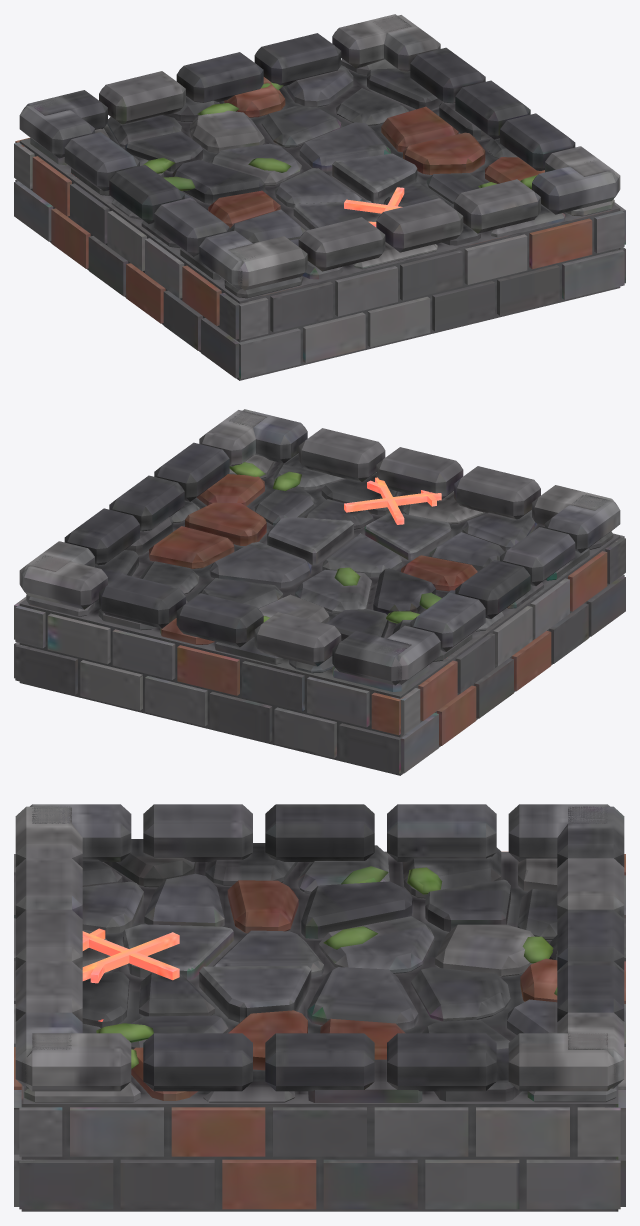
Rendered from plate_2_war.glb.
3 views of the same model, one above another, from view 1: azimuth 30°, elevation 25°; view 2: azimuth 150°, elevation 25°; view 3: azimuth 270°, elevation 25° (orthographic). The views are drawn at different scales.
Parts seen in each view (by area): view 1: plate_2_war; view 2: plate_2_war; view 3: plate_2_war.
Part boxes in pixels (x1=…): plate_2_war: x1=14, y1=14, x2=625, y2=380; plate_2_war: x1=14, y1=409, x2=625, y2=775; plate_2_war: x1=14, y1=804, x2=625, y2=1211.
Size of the model in its own units: 2.01 by 0.57 by 2.01.
Materials: 1 (1 with a texture image).
